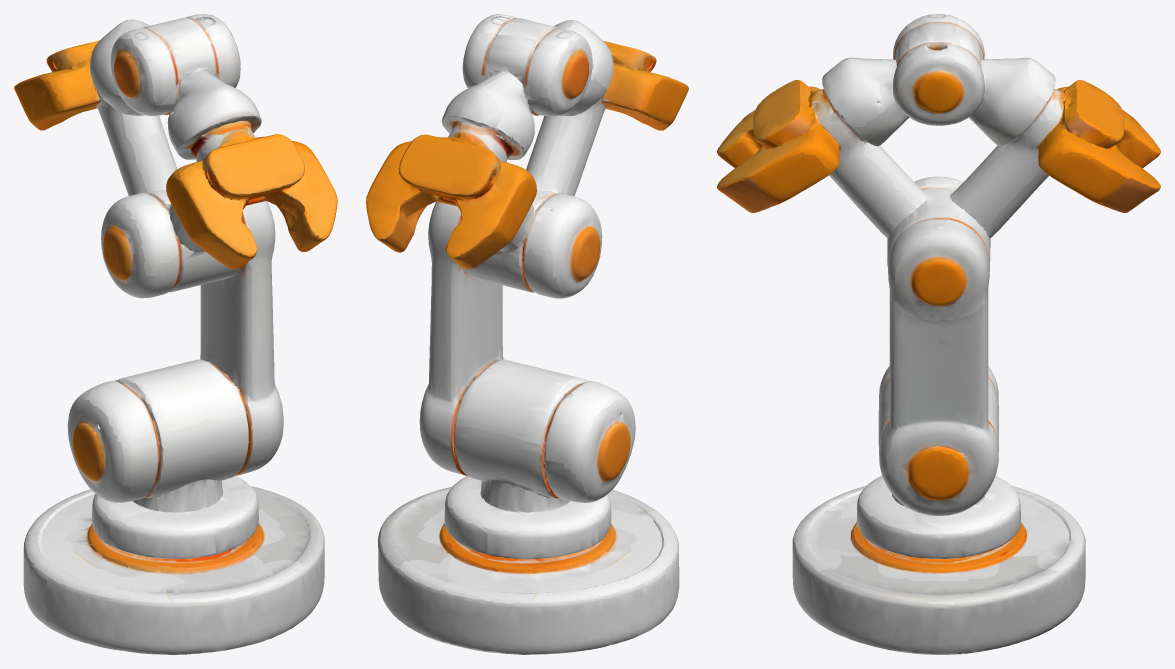
Rendered from robotarm.glb.
3 renders of one model, left to right at view 1: azimuth 30°, elevation 25°; view 2: azimuth 150°, elevation 25°; view 3: azimuth 270°, elevation 25°, orthographic.
Visible parts, largest first — view 1: geometry_0; view 2: geometry_0; view 3: geometry_0.
Boxes of the visible parts, box(x1,y1,x2,y2) form: geometry_0: box(14, 14, 337, 654); geometry_0: box(366, 14, 688, 654); geometry_0: box(717, 14, 1160, 654).
Size of the model in its own units: 0.1722 by 0.35 by 0.251.
1 material, 1 textured.
